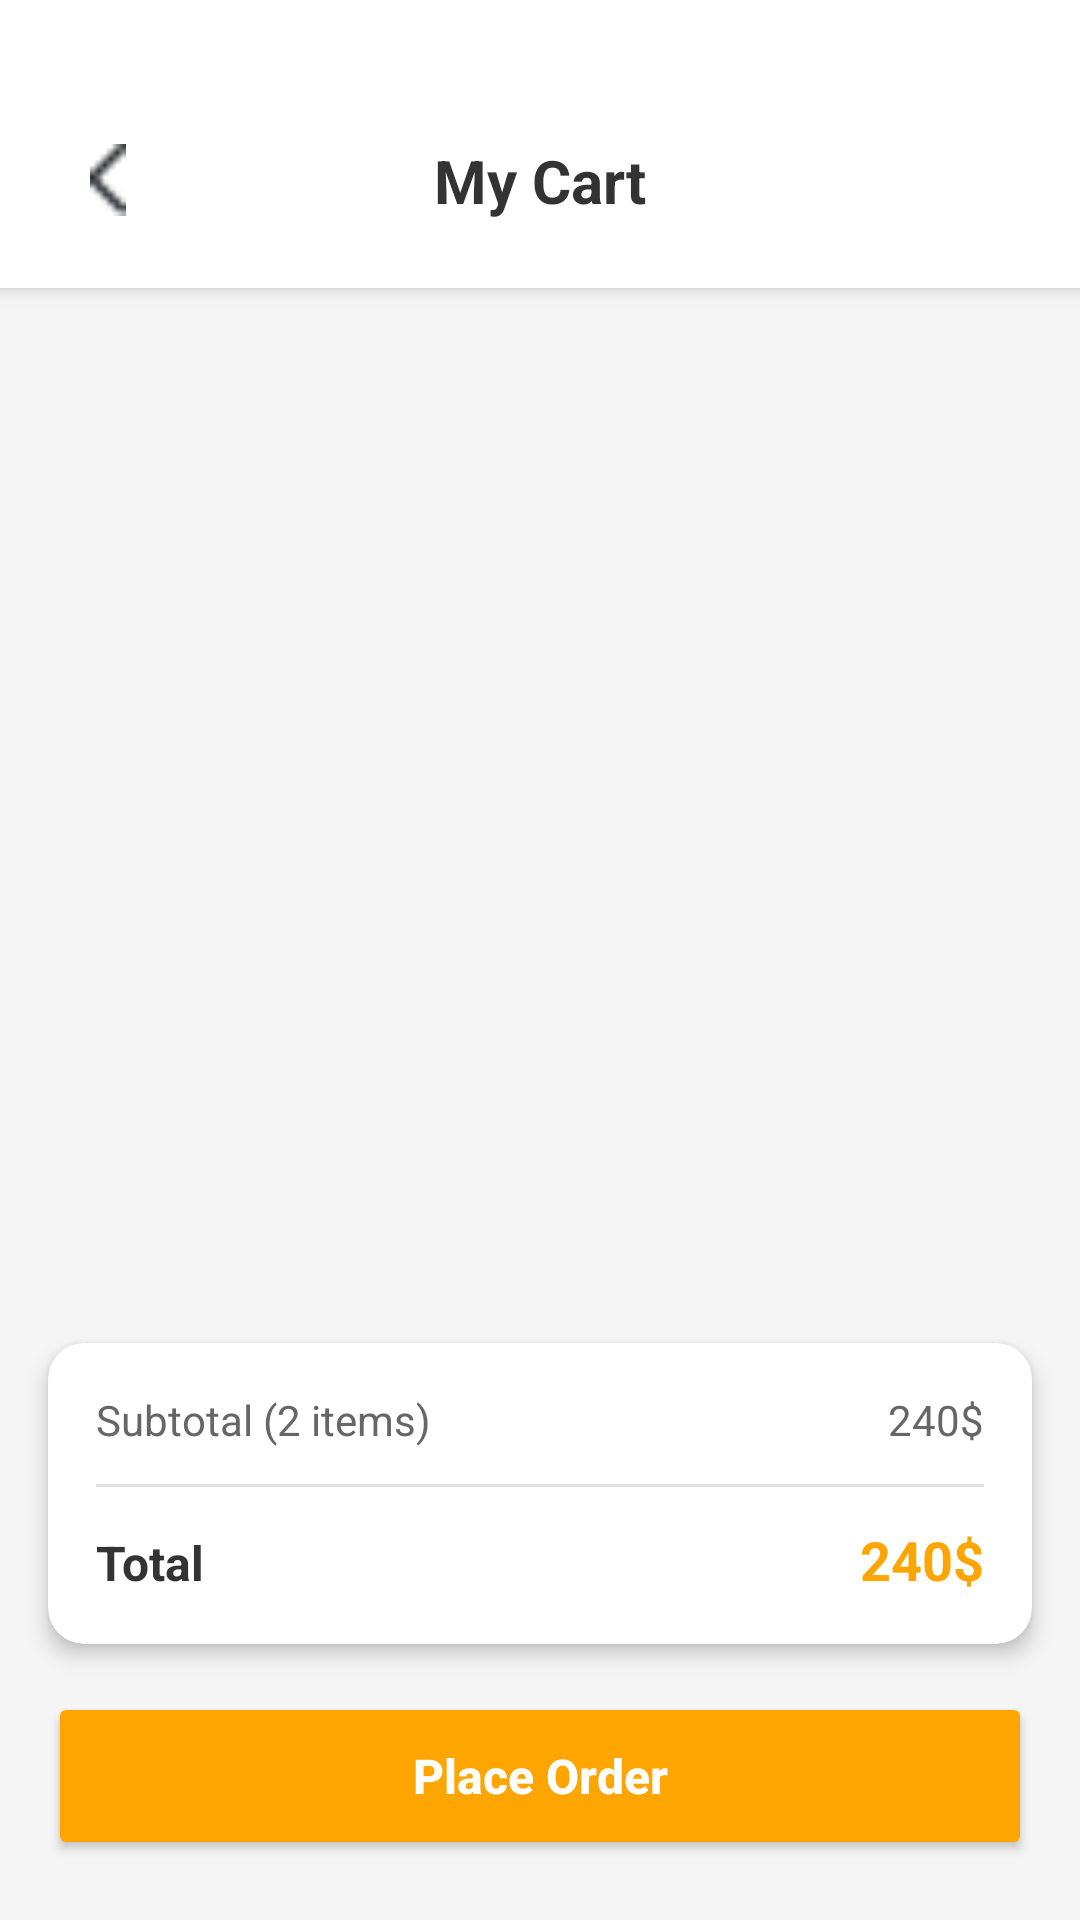

Icon click points for this 1080×1920 phone screenshot, format (x,y):
back: (108,180)
